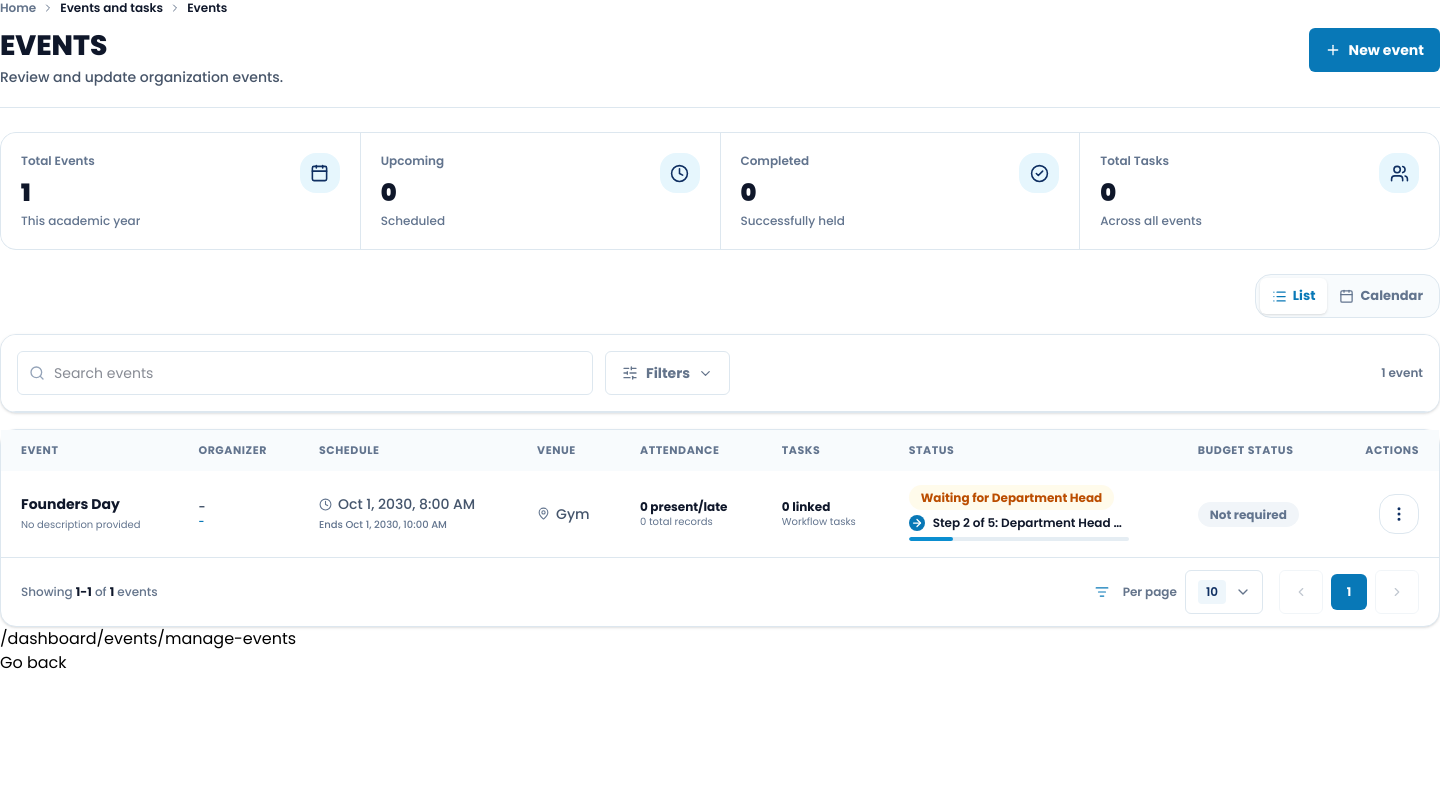
Test case: event drawer stage and next action › awaiting_department_head for ADMIN says "Waiting for Department Head approval"
Click the button named "Actions for Founders Day".
click(1399, 514)  # box [1379,494,1419,534]
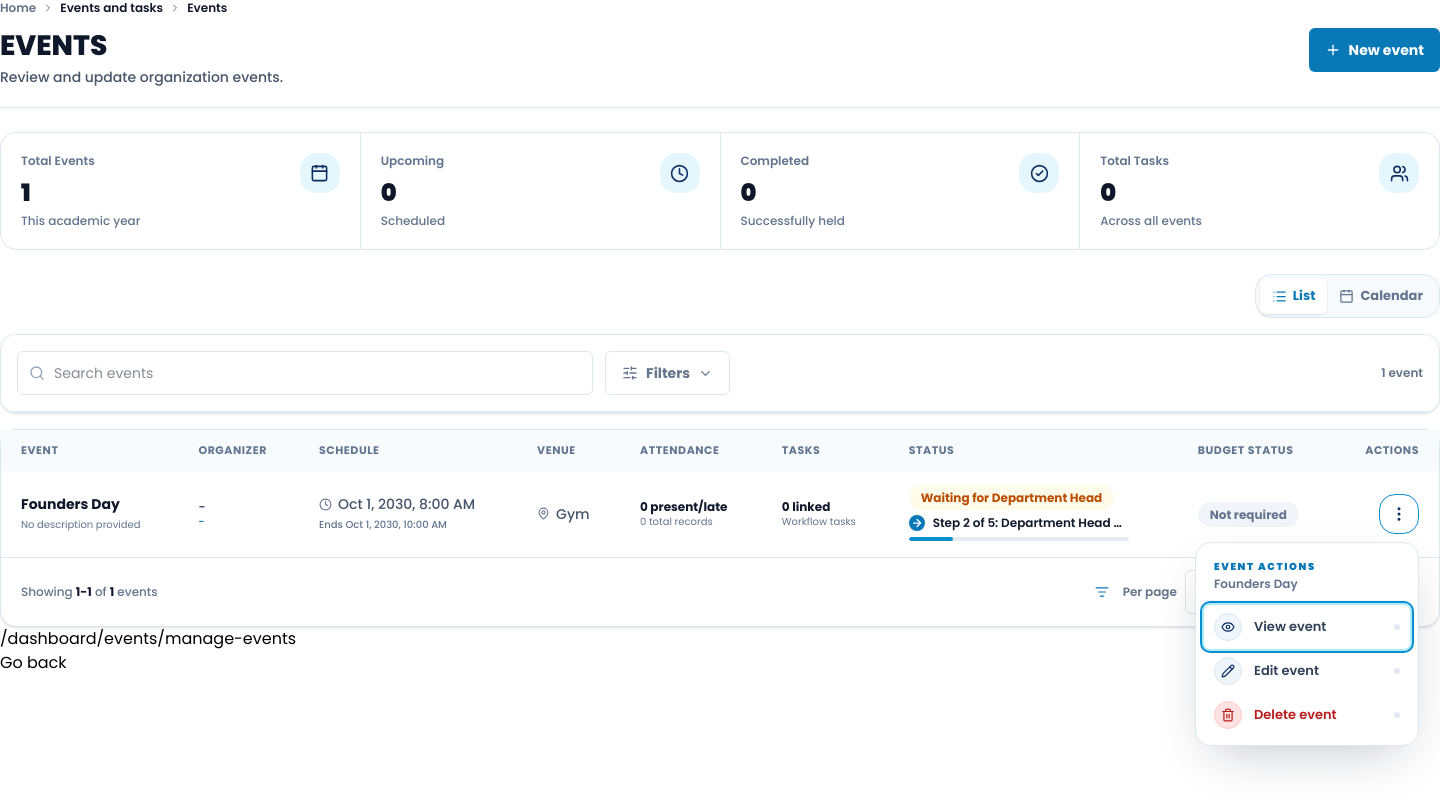
Click the menu item "View event".
click(1307, 626)  # box [1204,604,1410,648]
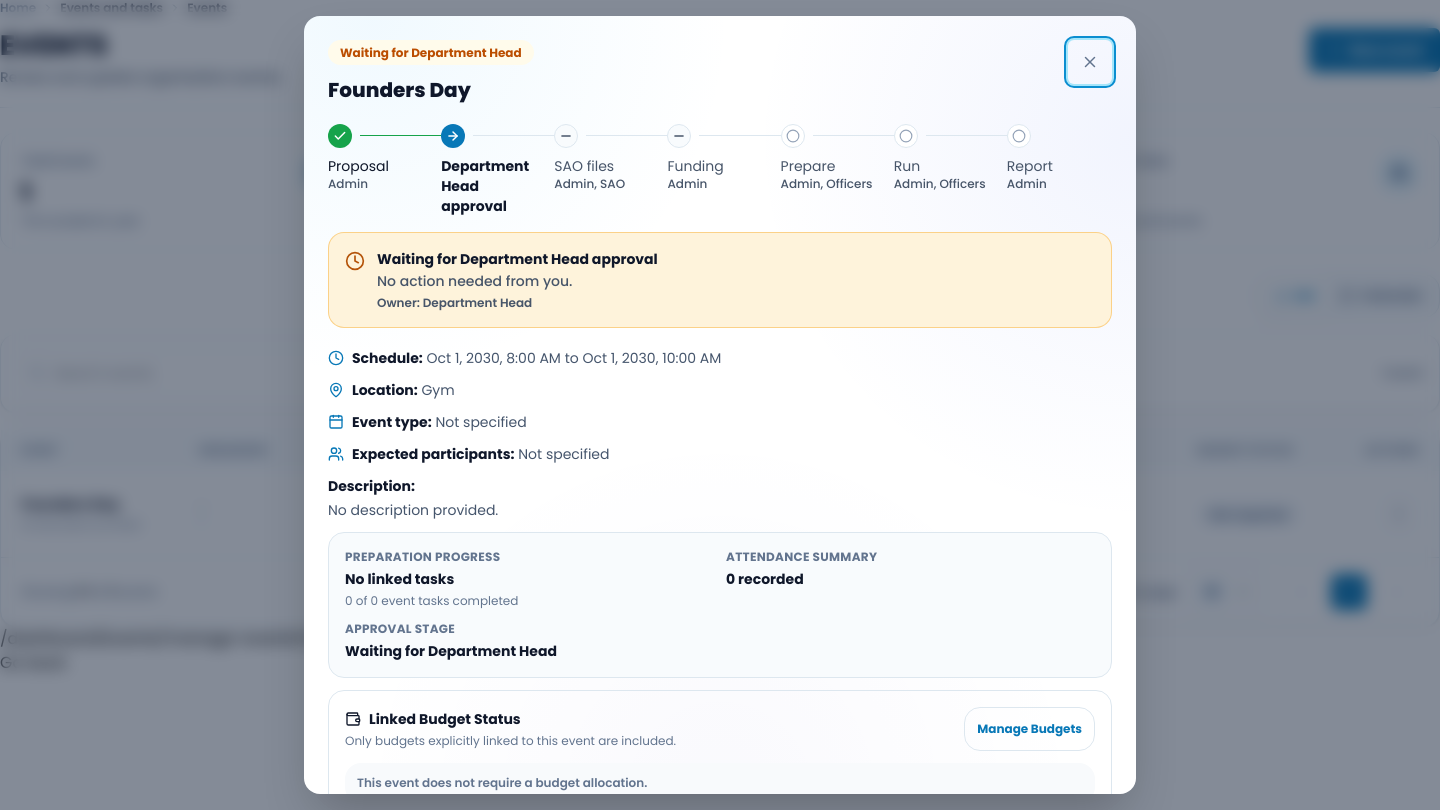
Expected: the list named "Event progress" is shown, [328,124,1112,216]
Expected: the text "Waiting for Department Head approval" is shown, [377,249,658,269]
